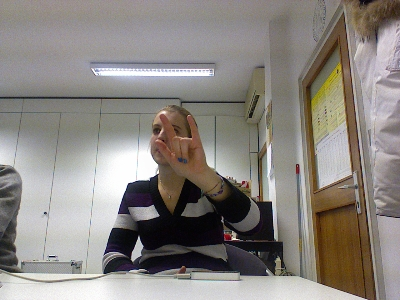我爱你: (153, 112, 208, 180)
